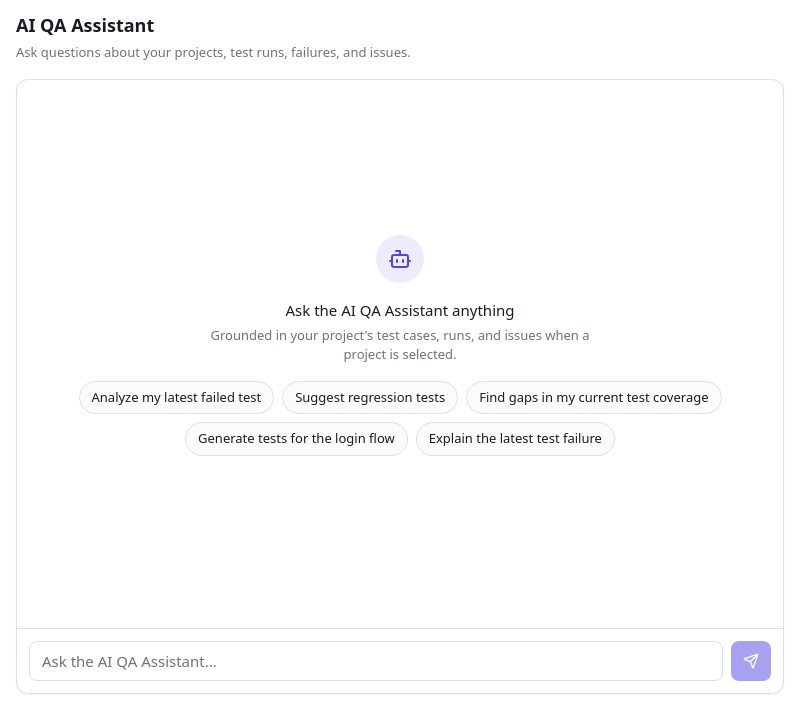
Test: AssistantPage › sends the suggested prompt's text when clicked
Click the button "Suggest regression tests". click: (370, 398)
box: [282, 381, 458, 414]
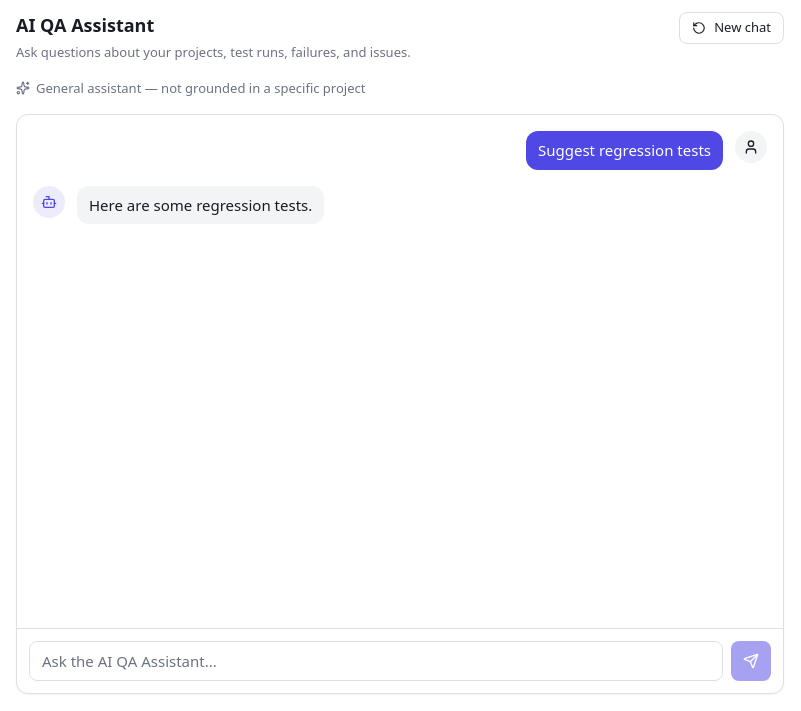
Expected: the text "Suggest regression tests" is shown, [538, 139, 711, 162]
Expected: the text "Here are some regression tests." is shown, [89, 194, 312, 216]
